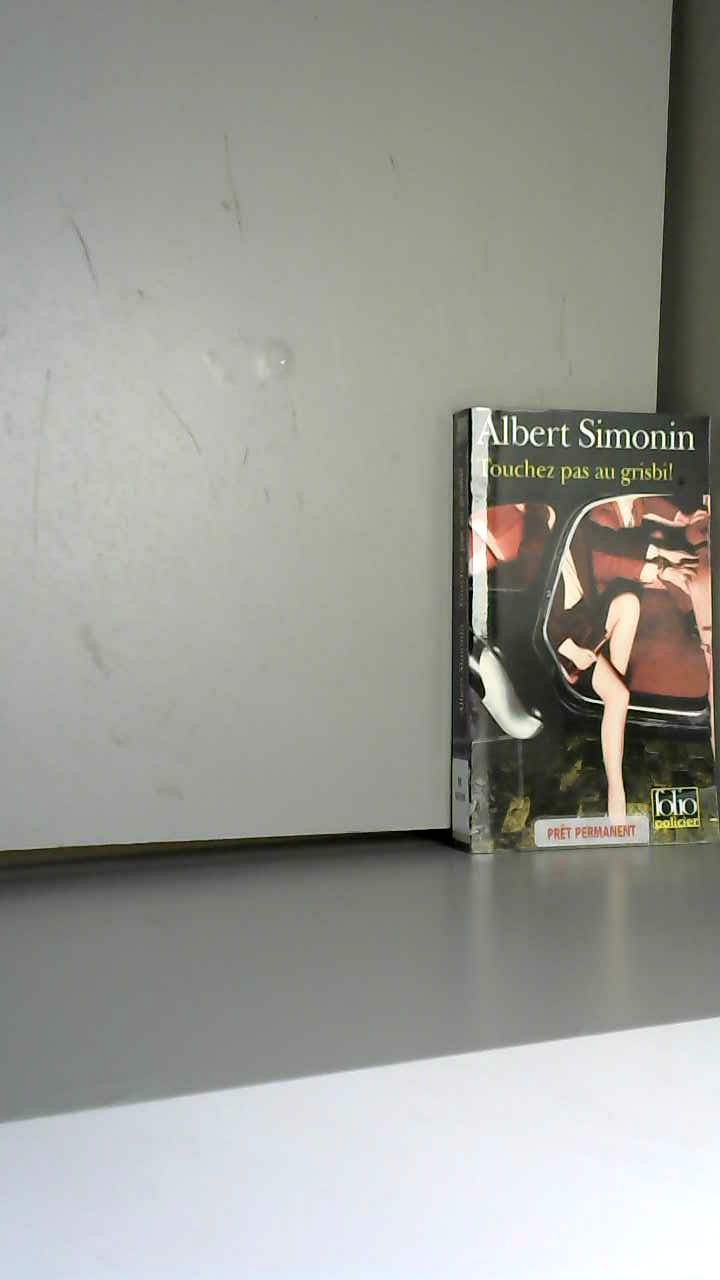book: (420, 380, 718, 878)
